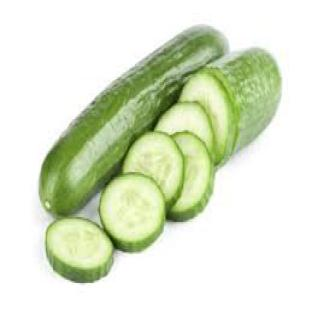Cucumber: (40, 26, 227, 215), (203, 49, 281, 152), (99, 174, 166, 252), (180, 71, 234, 164), (122, 132, 184, 207), (46, 218, 113, 283), (168, 132, 214, 220), (156, 103, 214, 155)
